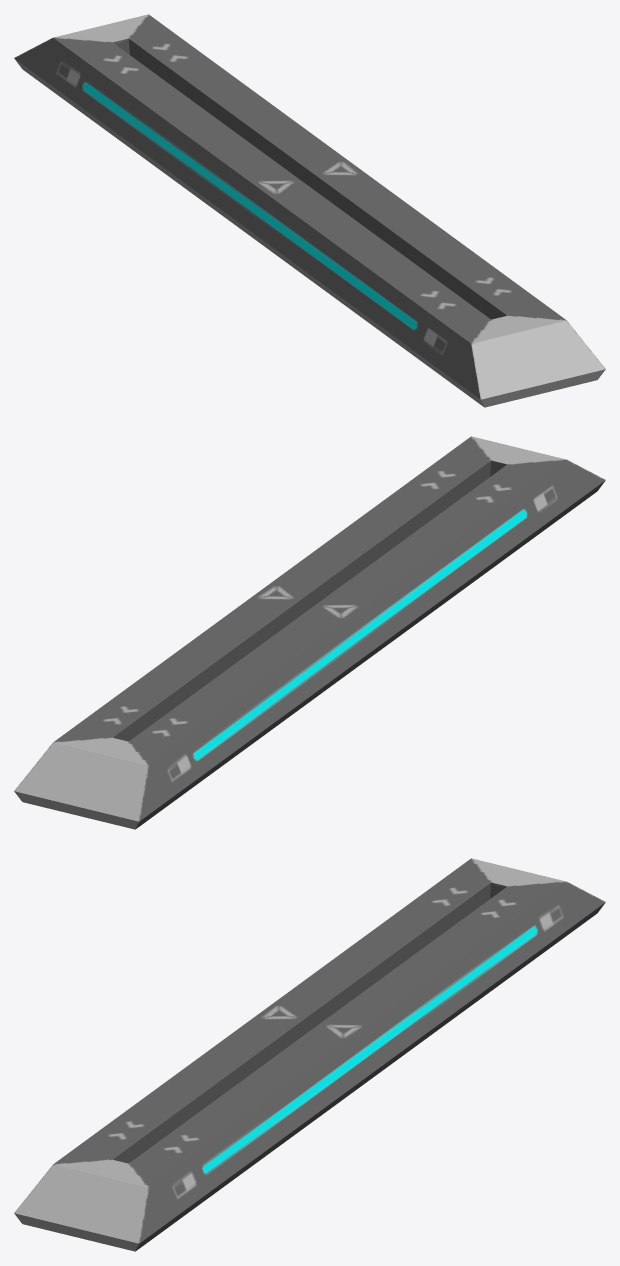
Rendered from Sierra Circular_Base.glb.
3 views of the same model, one above another, from view 1: azimuth 30°, elevation 25°; view 2: azimuth 150°, elevation 25°; view 3: azimuth 330°, elevation 25° (orthographic).
Visible parts, largest first — view 1: Cube.001; view 2: Cube.001; view 3: Cube.001.
Boxes of the visible parts, x1,y1,x2,y2 form: Cube.001: (14, 14, 605, 407); Cube.001: (14, 436, 605, 829); Cube.001: (14, 858, 605, 1251).
Bounding box in the file's own units: 1.1 × 0.3835 × 7.11.
1 material, 1 textured.
